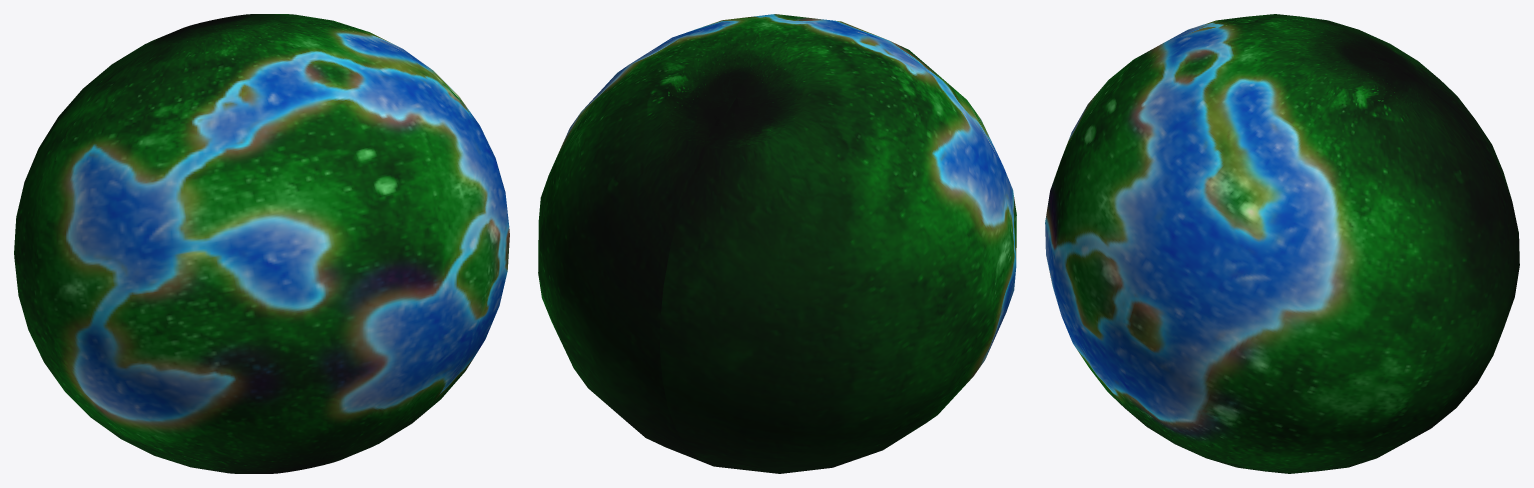
File: PlanetImport.obj
3 renders of one model, left to right at view 1: azimuth 30°, elevation 25°; view 2: azimuth 150°, elevation 25°; view 3: azimuth 270°, elevation 25°, orthographic. The views are drawn at different scales.
Visible parts, largest first — view 1: pSphere1; view 2: pSphere1; view 3: pSphere1.
Part boxes in pixels (box(x1,y1,x2,y2)): pSphere1: box(14, 14, 509, 473); pSphere1: box(538, 14, 1016, 473); pSphere1: box(1045, 14, 1519, 473).
Size of the model in its own units: 9.37 by 8.58 by 9.02.
